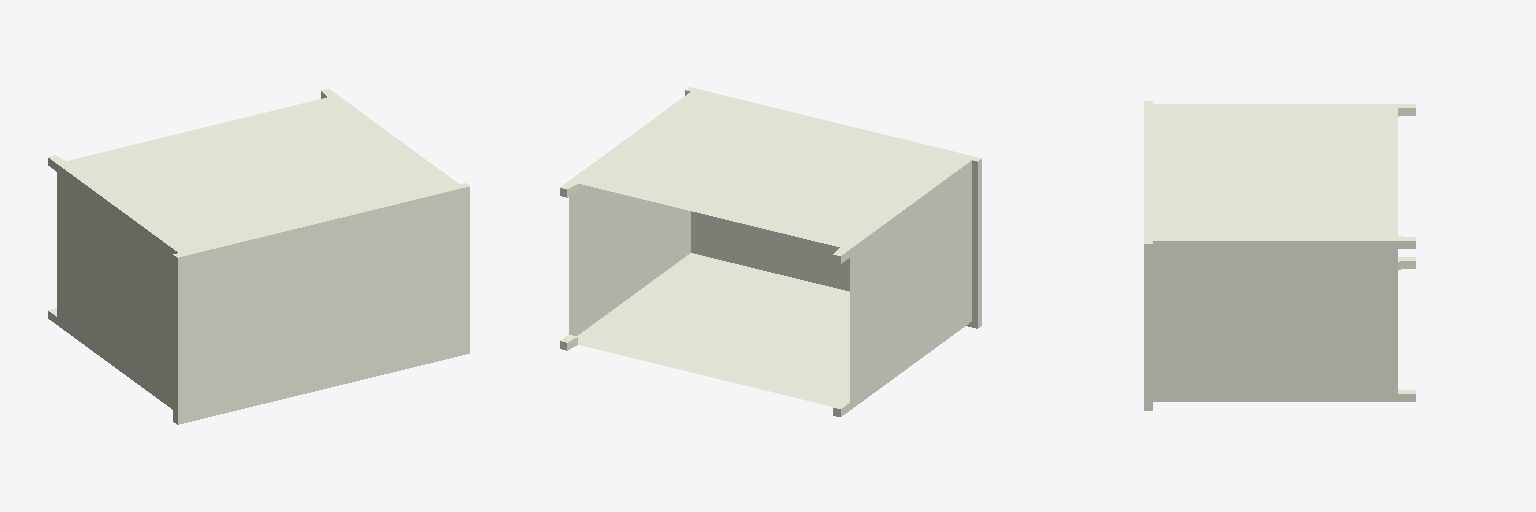
The model's file is cat17_dresser.obj.
The picture shows the model from 3 angles: view 1: azimuth 30°, elevation 25°; view 2: azimuth 150°, elevation 25°; view 3: azimuth 270°, elevation 25°; orthographic projection.
Parts seen in each view (by area): view 1: Chest_Series; view 2: Chest_Series; view 3: Chest_Series.
Boxes of the visible parts, box(x1,y1,x2,y2) form: Chest_Series: box(48, 88, 469, 424); Chest_Series: box(560, 87, 981, 416); Chest_Series: box(1144, 101, 1415, 410).
Size of the model in its own units: 38 by 20.75 by 30.53.